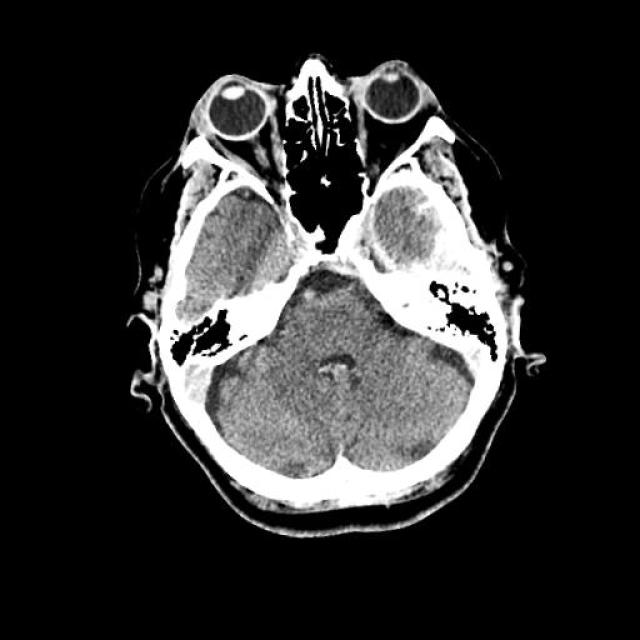Subdural: (406, 205, 504, 305), (145, 340, 229, 446)
